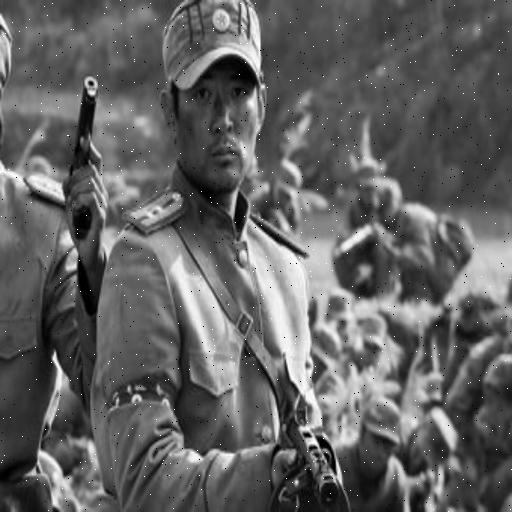north army: (109, 3, 368, 512)
